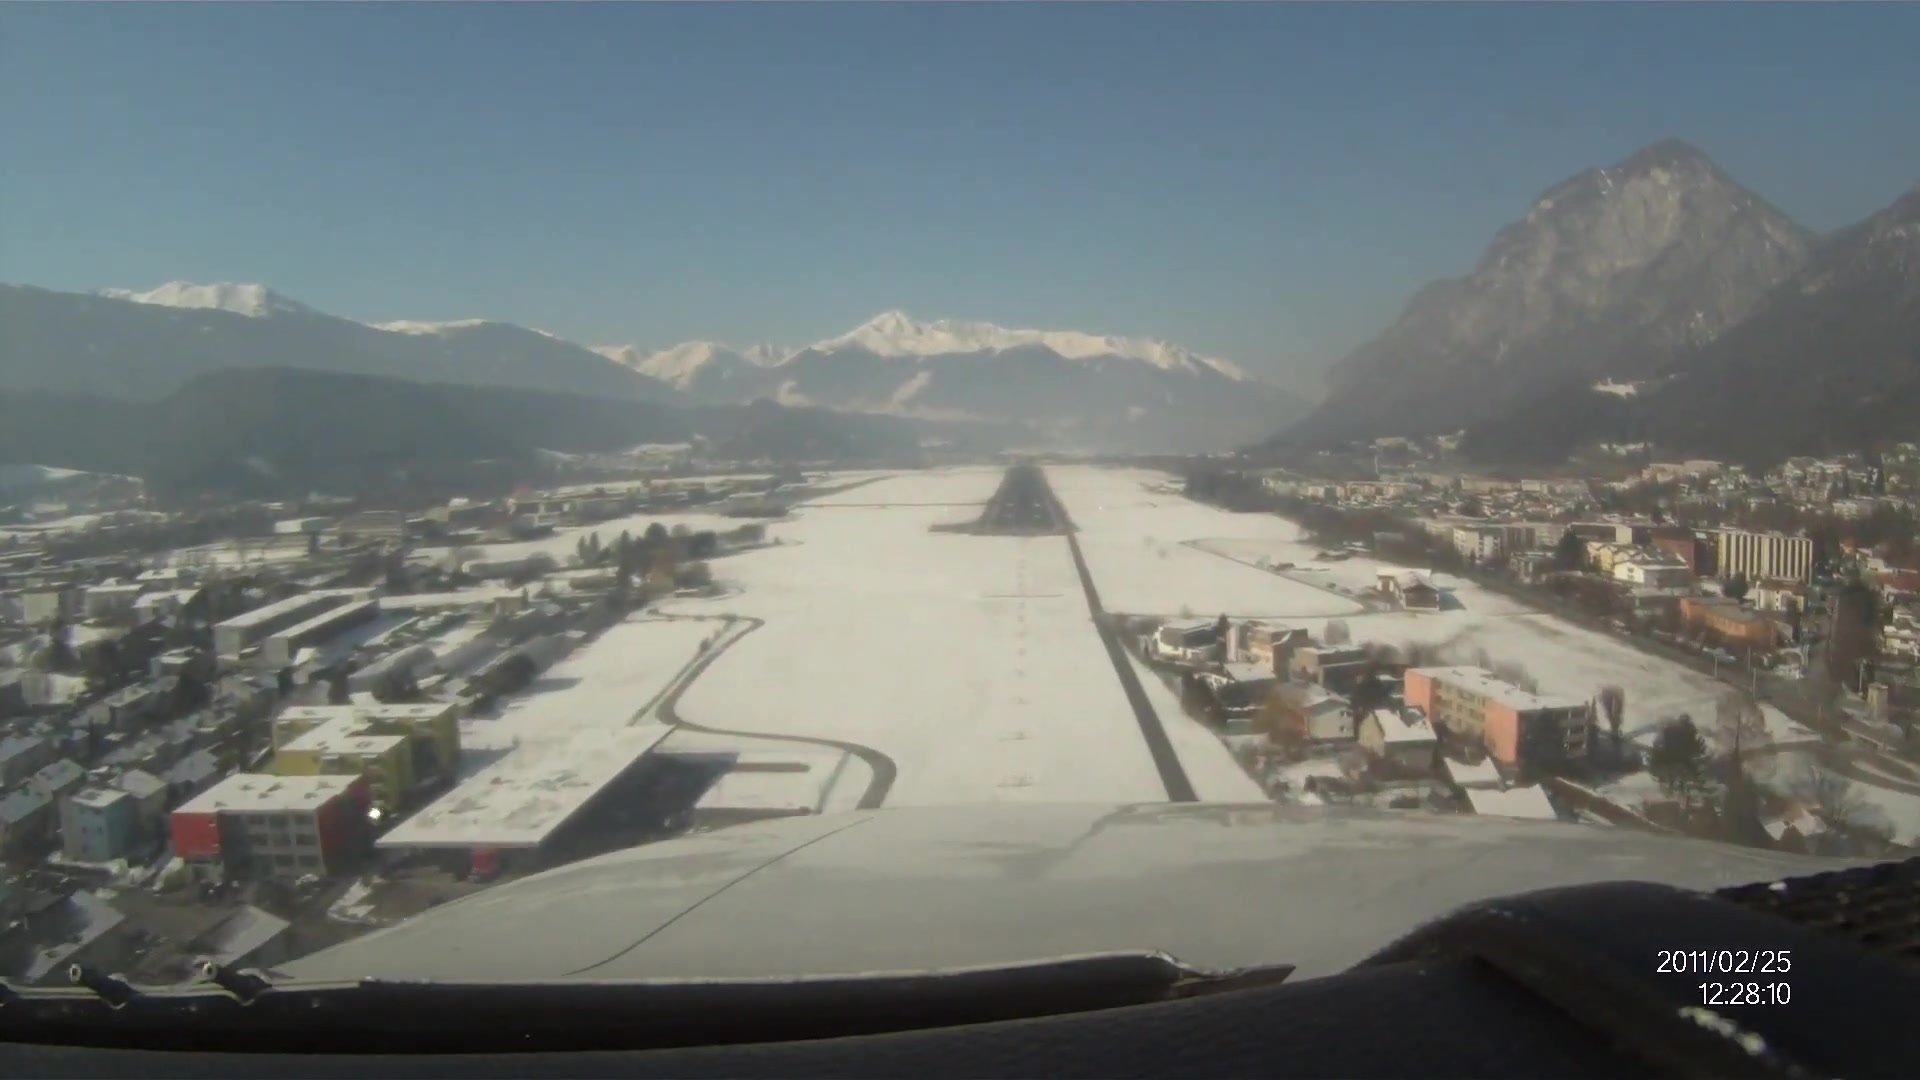runway: (993, 467, 1058, 534)
